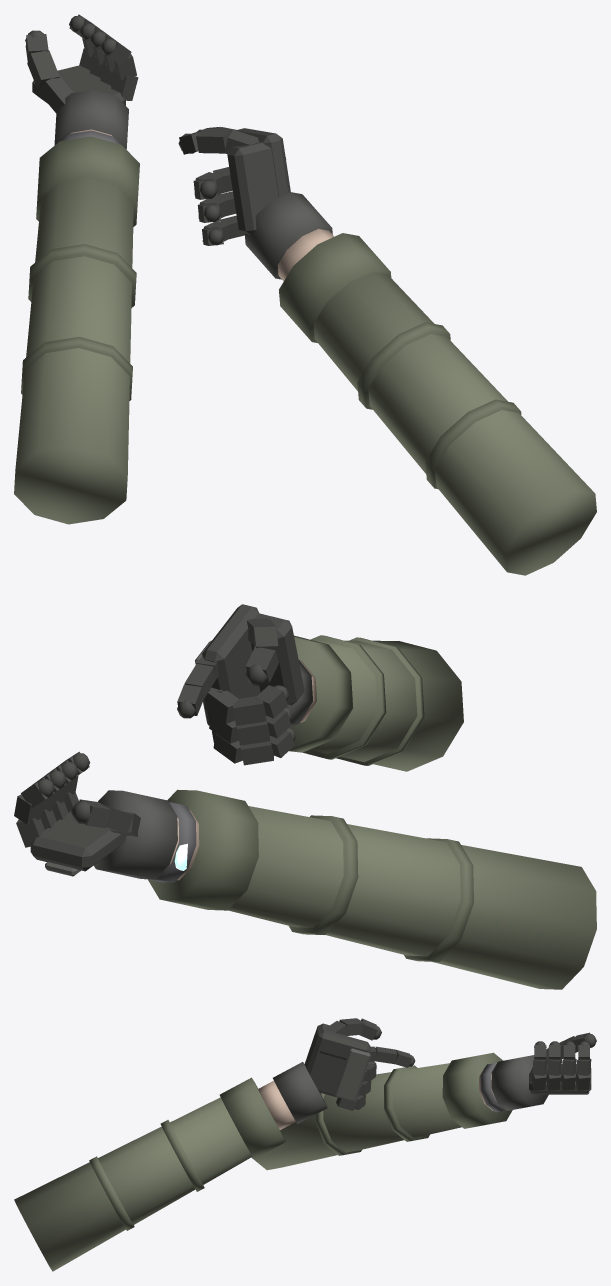
Rendered from hands_rocket_launcher.glb.
The picture shows the model from 3 angles, top to bottom: view 1: azimuth 30°, elevation 25°; view 2: azimuth 150°, elevation 25°; view 3: azimuth 270°, elevation 25°; orthographic projection. The views are drawn at different scales.
Visible parts, largest first — view 1: Hands_rocket_launcher, HandL; view 2: HandL, Hands_rocket_launcher; view 3: Hands_rocket_launcher, HandL.
Boxes of the visible parts, x1,y1,x2,y2 form: Hands_rocket_launcher: (178,126,596,575); HandL: (14,14,139,524); HandL: (14,751,596,989); Hands_rocket_launcher: (177,604,463,771); Hands_rocket_launcher: (14,1018,415,1271); HandL: (251,1032,596,1170).
Size of the model in its own units: 0.4433 by 0.3245 by 0.7969.
